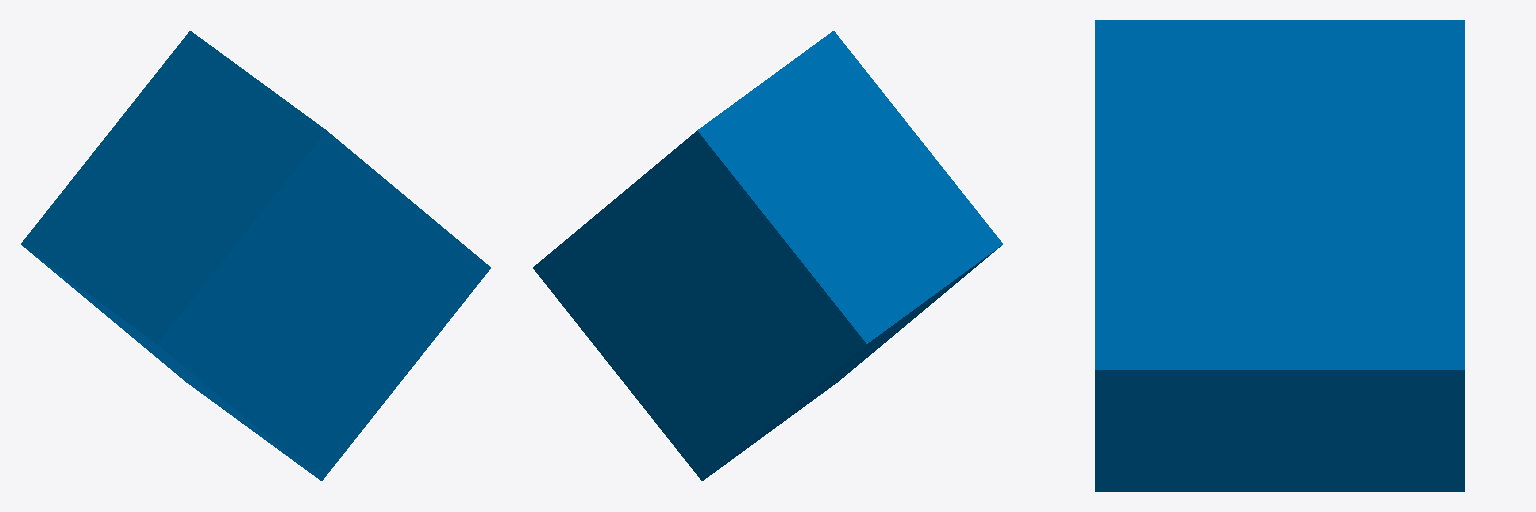
The robot description file, URDF, robot "mobile_bot":
<robot
  name="mobile_bot">
  
<gazebo reference="camera">
    <material>Gazebo/Green</material>
    <sensor name="camera_1" type="camera">
      <update_rate>30</update_rate>
      <camera name="head">
        <horizontal_fov>1.7</horizontal_fov>
        <image>
          <width>1920</width>
          <height>1440</height>
          <format>R8G8B8</format>
        </image>
        <clip>
          <near>0.1</near>
          <far>200</far>
        </clip>
      </camera>
      <plugin filename="libgazebo_ros_camera.so" name="camera_controller">
        <alwaysOn>true</alwaysOn>
        <updateRate>0.0</updateRate>
        <cameraName>david/camera_node</cameraName>
        <imageTopicName>image/raw</imageTopicName>
        <cameraInfoTopicName>camera_info</cameraInfoTopicName>
        <frameName>camera</frameName>
        <hackBaseline>0.07</hackBaseline>
      </plugin>
    </sensor>
  </gazebo>



  <gazebo>
    <plugin filename="libgazebo_ros_diff_drive.so" name="differential_drive_controller">
      <legacyMode>false</legacyMode>
      <alwaysOn>true</alwaysOn>
      <updateRate>20</updateRate>
      <leftJoint>left_wheel_joint</leftJoint>
      <rightJoint>right_wheel_joint</rightJoint>
      <wheelSeparation>0.4</wheelSeparation>
      <wheelDiameter>0.2</wheelDiameter>
      <torque>20</torque>
      <commandTopic>cmd_vel</commandTopic>
      <odometryTopic>odom</odometryTopic>
      <odometryFrame>odom</odometryFrame>
      <robotBaseFrame>base_link</robotBaseFrame>
    </plugin>



  </gazebo>
  <gazebo reference="base_link">
    <material>Gazebo/Orange</material>
  </gazebo>
  <gazebo reference="left_wheel_link">
    <material>Gazebo/Blue</material>
  </gazebo>
  <gazebo reference="right_wheel_link">
    <material>Gazebo/Blue</material>
  </gazebo>
  <gazebo reference="aux_link">
    <material>Gazebo/Red</material>
  </gazebo>
  <gazebo reference="camera">
    <material>Gazebo/Green</material>>
  </gazebo>


  <link
    name="base_link">
    <inertial>
      <origin
        xyz="-0.00622184359431738 0 -0.047659128690172"
        rpy="0 0 0" />
      <mass
        value="25.7087028099849" />
      <inertia
        ixx="0.160357541339885"
        ixy="-5.57452292081756E-17"
        ixz="-0.0066103014196117"
        iyy="0.420002910112563"
        iyz="-5.47104712094305E-19"
        izz="0.55283314314957" />
    </inertial>
    <visual>
      <origin
        xyz="0 0 0"
        rpy="0 0 0" />
      <geometry>
        <mesh
          filename="package://mobile_bot/meshes/base_link.STL" />
      </geometry>
      <material
        name="">
        <color
          rgba="1 0 0 1" />
      </material>
    </visual>
    <collision>
      <origin
        xyz="0 0 0"
        rpy="0 0 0" />
      <geometry>
        <mesh
          filename="package://mobile_bot/meshes/base_link.STL" />
      </geometry>
    </collision>
  </link>
  <link
    name="left_wheel_link">
    <inertial>
      <origin
        xyz="0 -0.0375 0"
        rpy="0 0 0" />
      <mass
        value="2.35619449019235" />
      <inertia
        ixx="0.00699495239275853"
        ixy="1.35525271560688E-19"
        ixz="1.69657916167962E-50"
        iyy="0.0117809724509617"
        iyz="-1.70747651256053E-35"
        izz="0.00699495239275852" />
    </inertial>
    <visual>
      <origin
        xyz="0 0 0"
        rpy="0 0 0" />
      <geometry>
        <mesh
          filename="package://mobile_bot/meshes/left_wheel_link.STL" />
      </geometry>
      <material
        name="">
        <color
          rgba="1 0.941176470588235 0.435294117647059 1" />
      </material>
    </visual>
    <collision>
      <origin
        xyz="0 0 0"
        rpy="0 0 0" />
      <geometry>
        <mesh
          filename="package://mobile_bot/meshes/left_wheel_link.STL" />
      </geometry>
    </collision>
  </link>
  <joint
    name="left_wheel_joint"
    type="continuous">
    <origin
      xyz="0.15 0.24 -0.0744721543908269"
      rpy="0 0 0" />
    <parent
      link="base_link" />
    <child
      link="left_wheel_link" />
    <axis
      xyz="0 1 0" />
  </joint>
  <link
    name="right_wheel_link">
    <inertial>
      <origin
        xyz="0 0.0375 0"
        rpy="0 0 0" />
      <mass
        value="2.35619449019234" />
      <inertia
        ixx="0.00699495239275852"
        ixy="6.77626357803441E-20"
        ixz="-2.03287907341032E-19"
        iyy="0.0117809724509617"
        iyz="6.24669226564202E-35"
        izz="0.00699495239275852" />
    </inertial>
    <visual>
      <origin
        xyz="0 0 0"
        rpy="0 0 0" />
      <geometry>
        <mesh
          filename="package://mobile_bot/meshes/right_wheel_link.STL" />
      </geometry>
      <material
        name="">
        <color
          rgba="1 0.941176470588235 0.435294117647059 1" />
      </material>
    </visual>
    <collision>
      <origin
        xyz="0 0 0"
        rpy="0 0 0" />
      <geometry>
        <mesh
          filename="package://mobile_bot/meshes/right_wheel_link.STL" />
      </geometry>
    </collision>
  </link>
  <joint
    name="right_wheel_joint"
    type="continuous">
    <origin
      xyz="0.15 -0.24 -0.0744721543908269"
      rpy="0 0 0" />
    <parent
      link="base_link" />
    <child
      link="right_wheel_link" />
    <axis
      xyz="0 1 0" />
  </joint>
  <link
    name="aux_link">
    <inertial>
      <origin
        xyz="0 0 1.1102E-16"
        rpy="0 0 0" />
      <mass
        value="0.17959" />
      <inertia
        ixx="8.8001E-05"
        ixy="0"
        ixz="0"
        iyy="8.8001E-05"
        iyz="0"
        izz="8.8001E-05" />
    </inertial>
    <visual>
      <origin
        xyz="0 0 0"
        rpy="0 0 0" />
      <geometry>
        <mesh
          filename="package://mobile_bot/meshes/aux_link.STL" />
      </geometry>
      <material
        name="">
        <color
          rgba="0.79216 0.81961 0.93333 1" />
      </material>
    </visual>
    <collision>
      <origin
        xyz="0 0 0"
        rpy="0 0 0" />
      <geometry>
        <mesh
          filename="package://mobile_bot/meshes/aux_link.STL" />
      </geometry>
    </collision>
  </link>
  <joint
    name="aux_wheel_joint"
    type="continuous">
    <origin
      xyz="-0.155 0 -0.135"
      rpy="0 0 0" />
    <parent
      link="base_link" />
    <child
      link="aux_link" />
    <axis
      xyz="0 1 0" />
  </joint>

  <link name="camera">
    <collision>
      <origin rpy="0 0.1 0" xyz="0 0 0"/>
      <geometry>
        <box size="0.05 0.05 0.05"/>
      </geometry>
    </collision>
    <visual>
      <origin rpy="0 0 0" xyz="0 0 0"/>
      <geometry>
        <box size="0.05 0.05 0.05"/>
      </geometry>
    </visual>
    <inertial>
      <mass value="0.1"/>
      <origin rpy="0 0 0" xyz="0 0 0"/>
      <box_inertia m="0.1" x="0.05" y="0.05" z="0.05"/>
      <inertia ixx="1e-6" ixy="0" ixz="0" iyy="1e-6" iyz="0" izz="1e-6"/>
    </inertial>
  </link>
  <joint name="camera_joint" type="fixed">
    <axis xyz="0 1 0"/>
    <origin rpy="0 0.8 0" xyz=".35 0 .25"/>
    <parent link="base_link"/>
    <child link="camera"/>
  </joint>
</robot>

--- Facts derived from the render (not from the file) ---
3 views of the same robot in one strip: view 1: azimuth 30°, elevation 25°; view 2: azimuth 150°, elevation 25°; view 3: azimuth 270°, elevation 25° (orthographic).
Robot: mobile_bot — 5 links, 4 joints (3 continuous, 1 fixed); root link base_link; default pose: all joints at 0.
Visible links, largest first — view 1: camera; view 2: camera; view 3: camera.
Boxes of the visible links, x1,y1,x2,y2 form: camera: (21, 31, 490, 480); camera: (533, 31, 1002, 480); camera: (1095, 20, 1464, 491).
Size in the robot's own frame: 0.0707 by 0.05 by 0.0707 metres.
Meshes: 4 distinct files referenced, 0 mesh visuals loaded (none loaded); not drawn: 4 (reference not matched to a file when rendering).